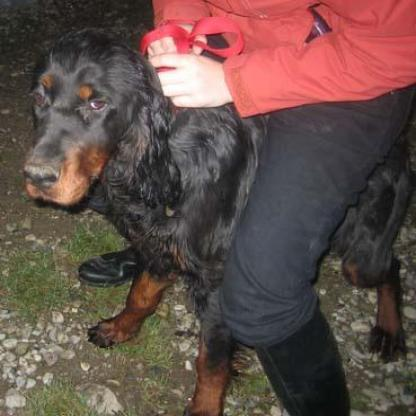Gordon_setter: (17, 22, 414, 414)
